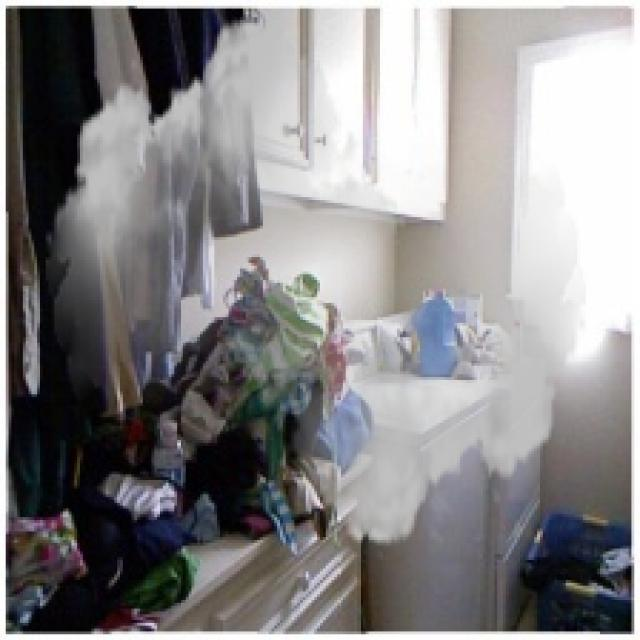Smoke: (46, 0, 586, 563)
